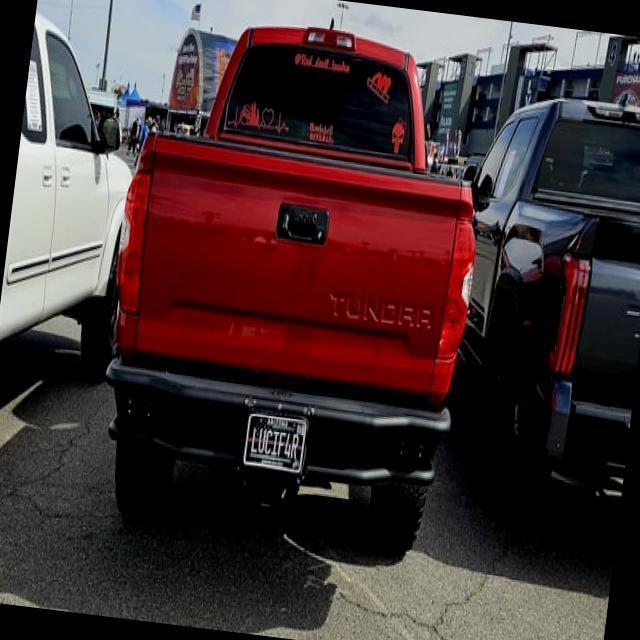license-plate: (230, 412, 318, 475)
